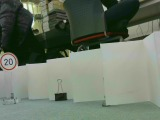speed_20: (1, 52, 18, 72)
